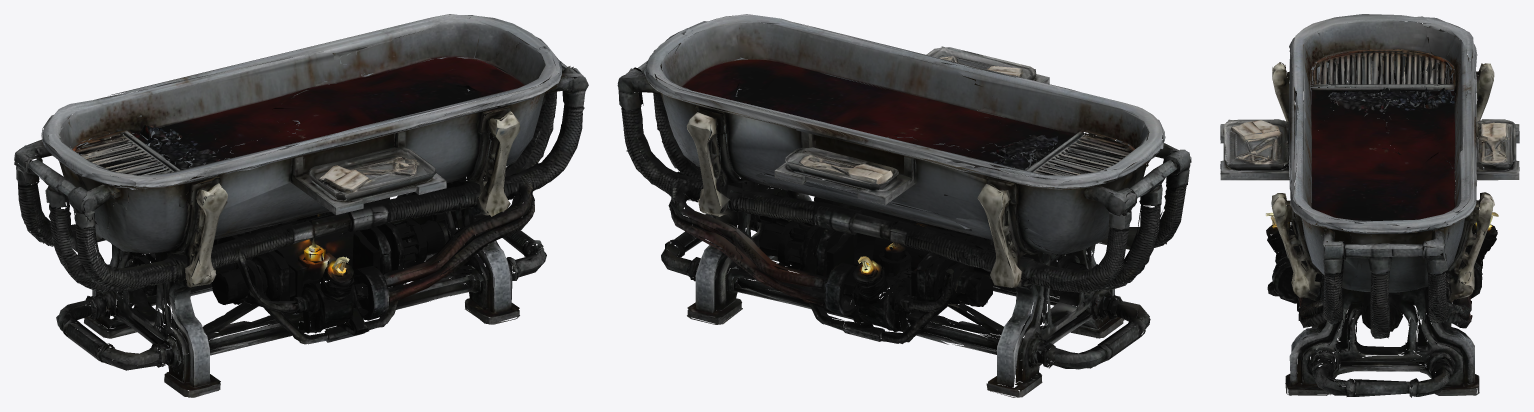
File: cryo_thawing_trough.glb
3 renders of one model, left to right at view 1: azimuth 30°, elevation 25°; view 2: azimuth 150°, elevation 25°; view 3: azimuth 270°, elevation 25°, orthographic. The views are drawn at different scales.
Parts seen in each view (by area): view 1: node_0; view 2: node_0; view 3: node_0.
Boxes of the visible parts, x1=… form: node_0: x1=14, y1=14, x2=588, y2=397; node_0: x1=617, y1=14, x2=1191, y2=397; node_0: x1=1220, y1=14, x2=1519, y2=397.
Size of the model in its own units: 1.11 by 0.4675 by 0.6175.
1 material, 1 textured.
